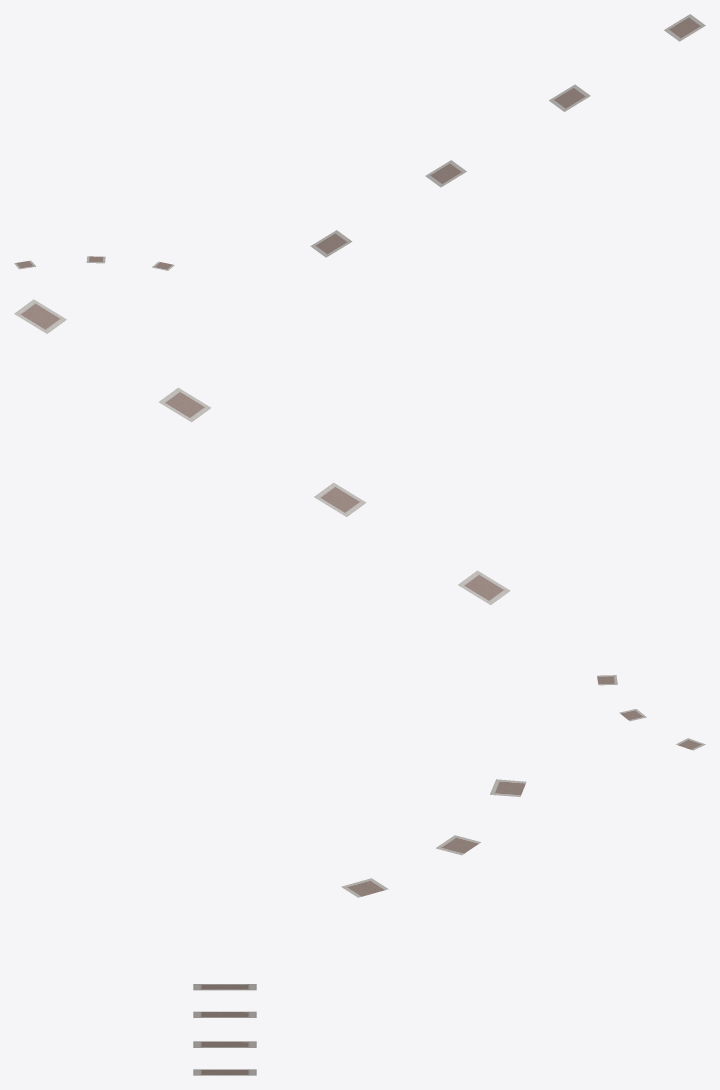
Rendered from kd_stage_135fe0_3_46.glb.
The picture shows the model from 3 angles, top to bottom: view 1: azimuth 30°, elevation 25°; view 2: azimuth 150°, elevation 25°; view 3: azimuth 270°, elevation 25°; orthographic projection. The views are drawn at different scales.
Parts seen in each view (by area): view 1: kd_stage_135fe0_3_46; view 2: kd_stage_135fe0_3_46; view 3: kd_stage_135fe0_3_46.
Boxes of the visible parts, box(x1,y1,x2,y2) form: kd_stage_135fe0_3_46: box(14, 14, 705, 270); kd_stage_135fe0_3_46: box(14, 299, 705, 750); kd_stage_135fe0_3_46: box(193, 779, 526, 1075).
Bounding box in the file's own units: 38.35 × 9 × 9.05.
Materials: 1 (1 with a texture image).
